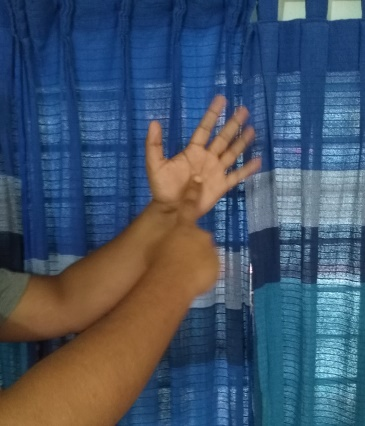oo: (143, 93, 262, 292)
